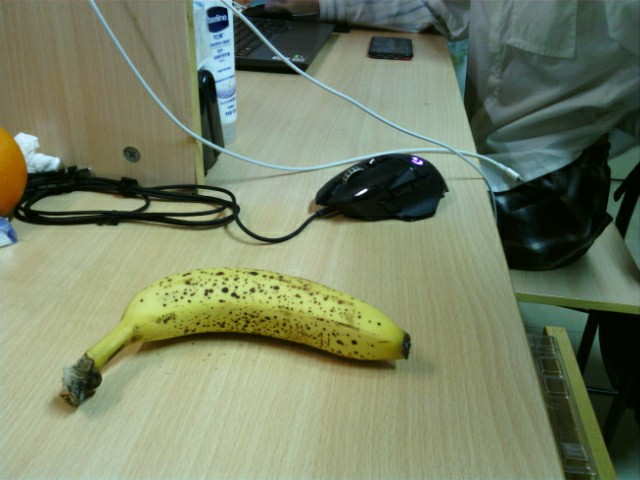normal_banana: (61, 267, 413, 410)
